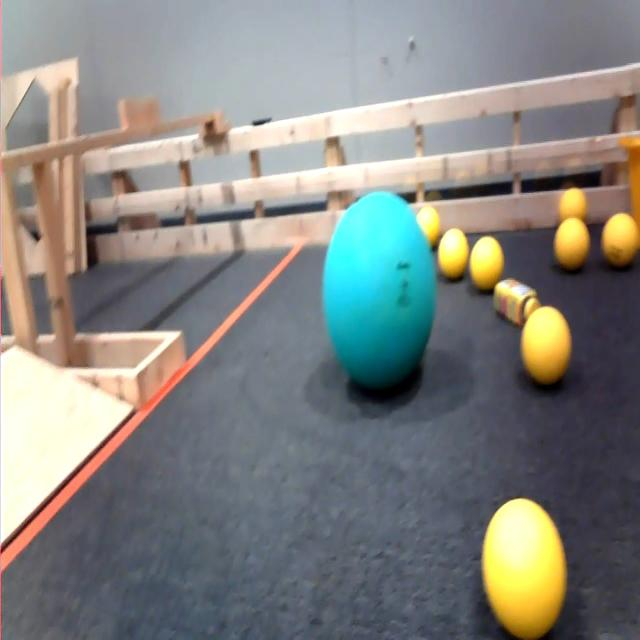fuel: (474, 490, 578, 640), (511, 304, 587, 385), (600, 201, 640, 291), (467, 230, 511, 288), (437, 222, 477, 284), (551, 211, 588, 269), (414, 202, 449, 248), (556, 187, 590, 223)
